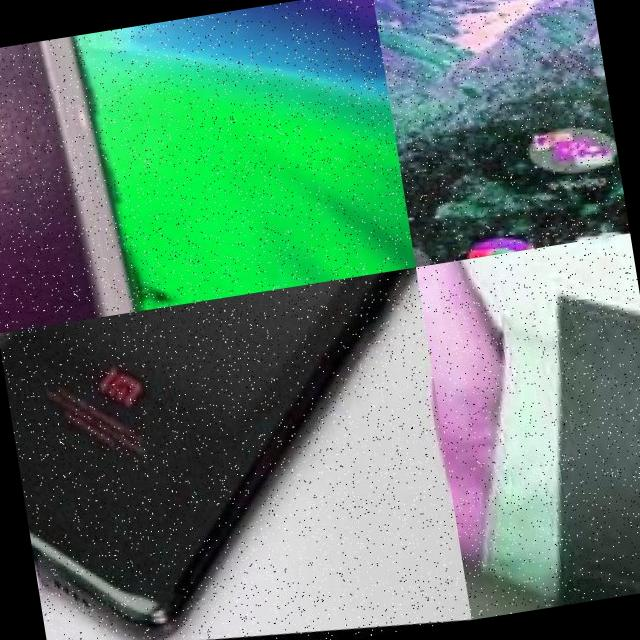screen crack: (21, 0, 392, 321)
